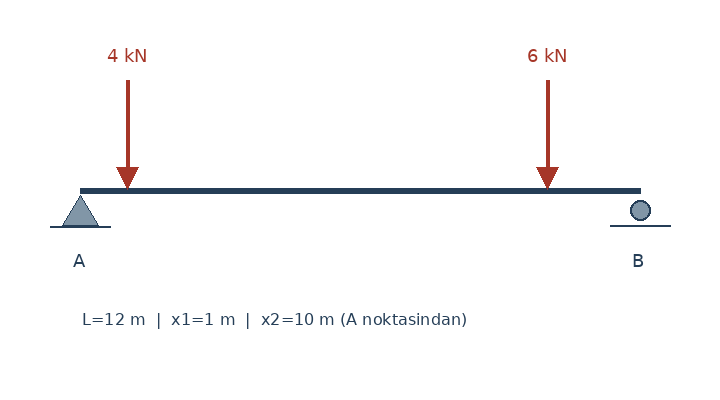pin_support: (61, 190, 99, 226)
point_load: (113, 76, 141, 190), (533, 76, 561, 190)
roller_support: (625, 196, 655, 227)
